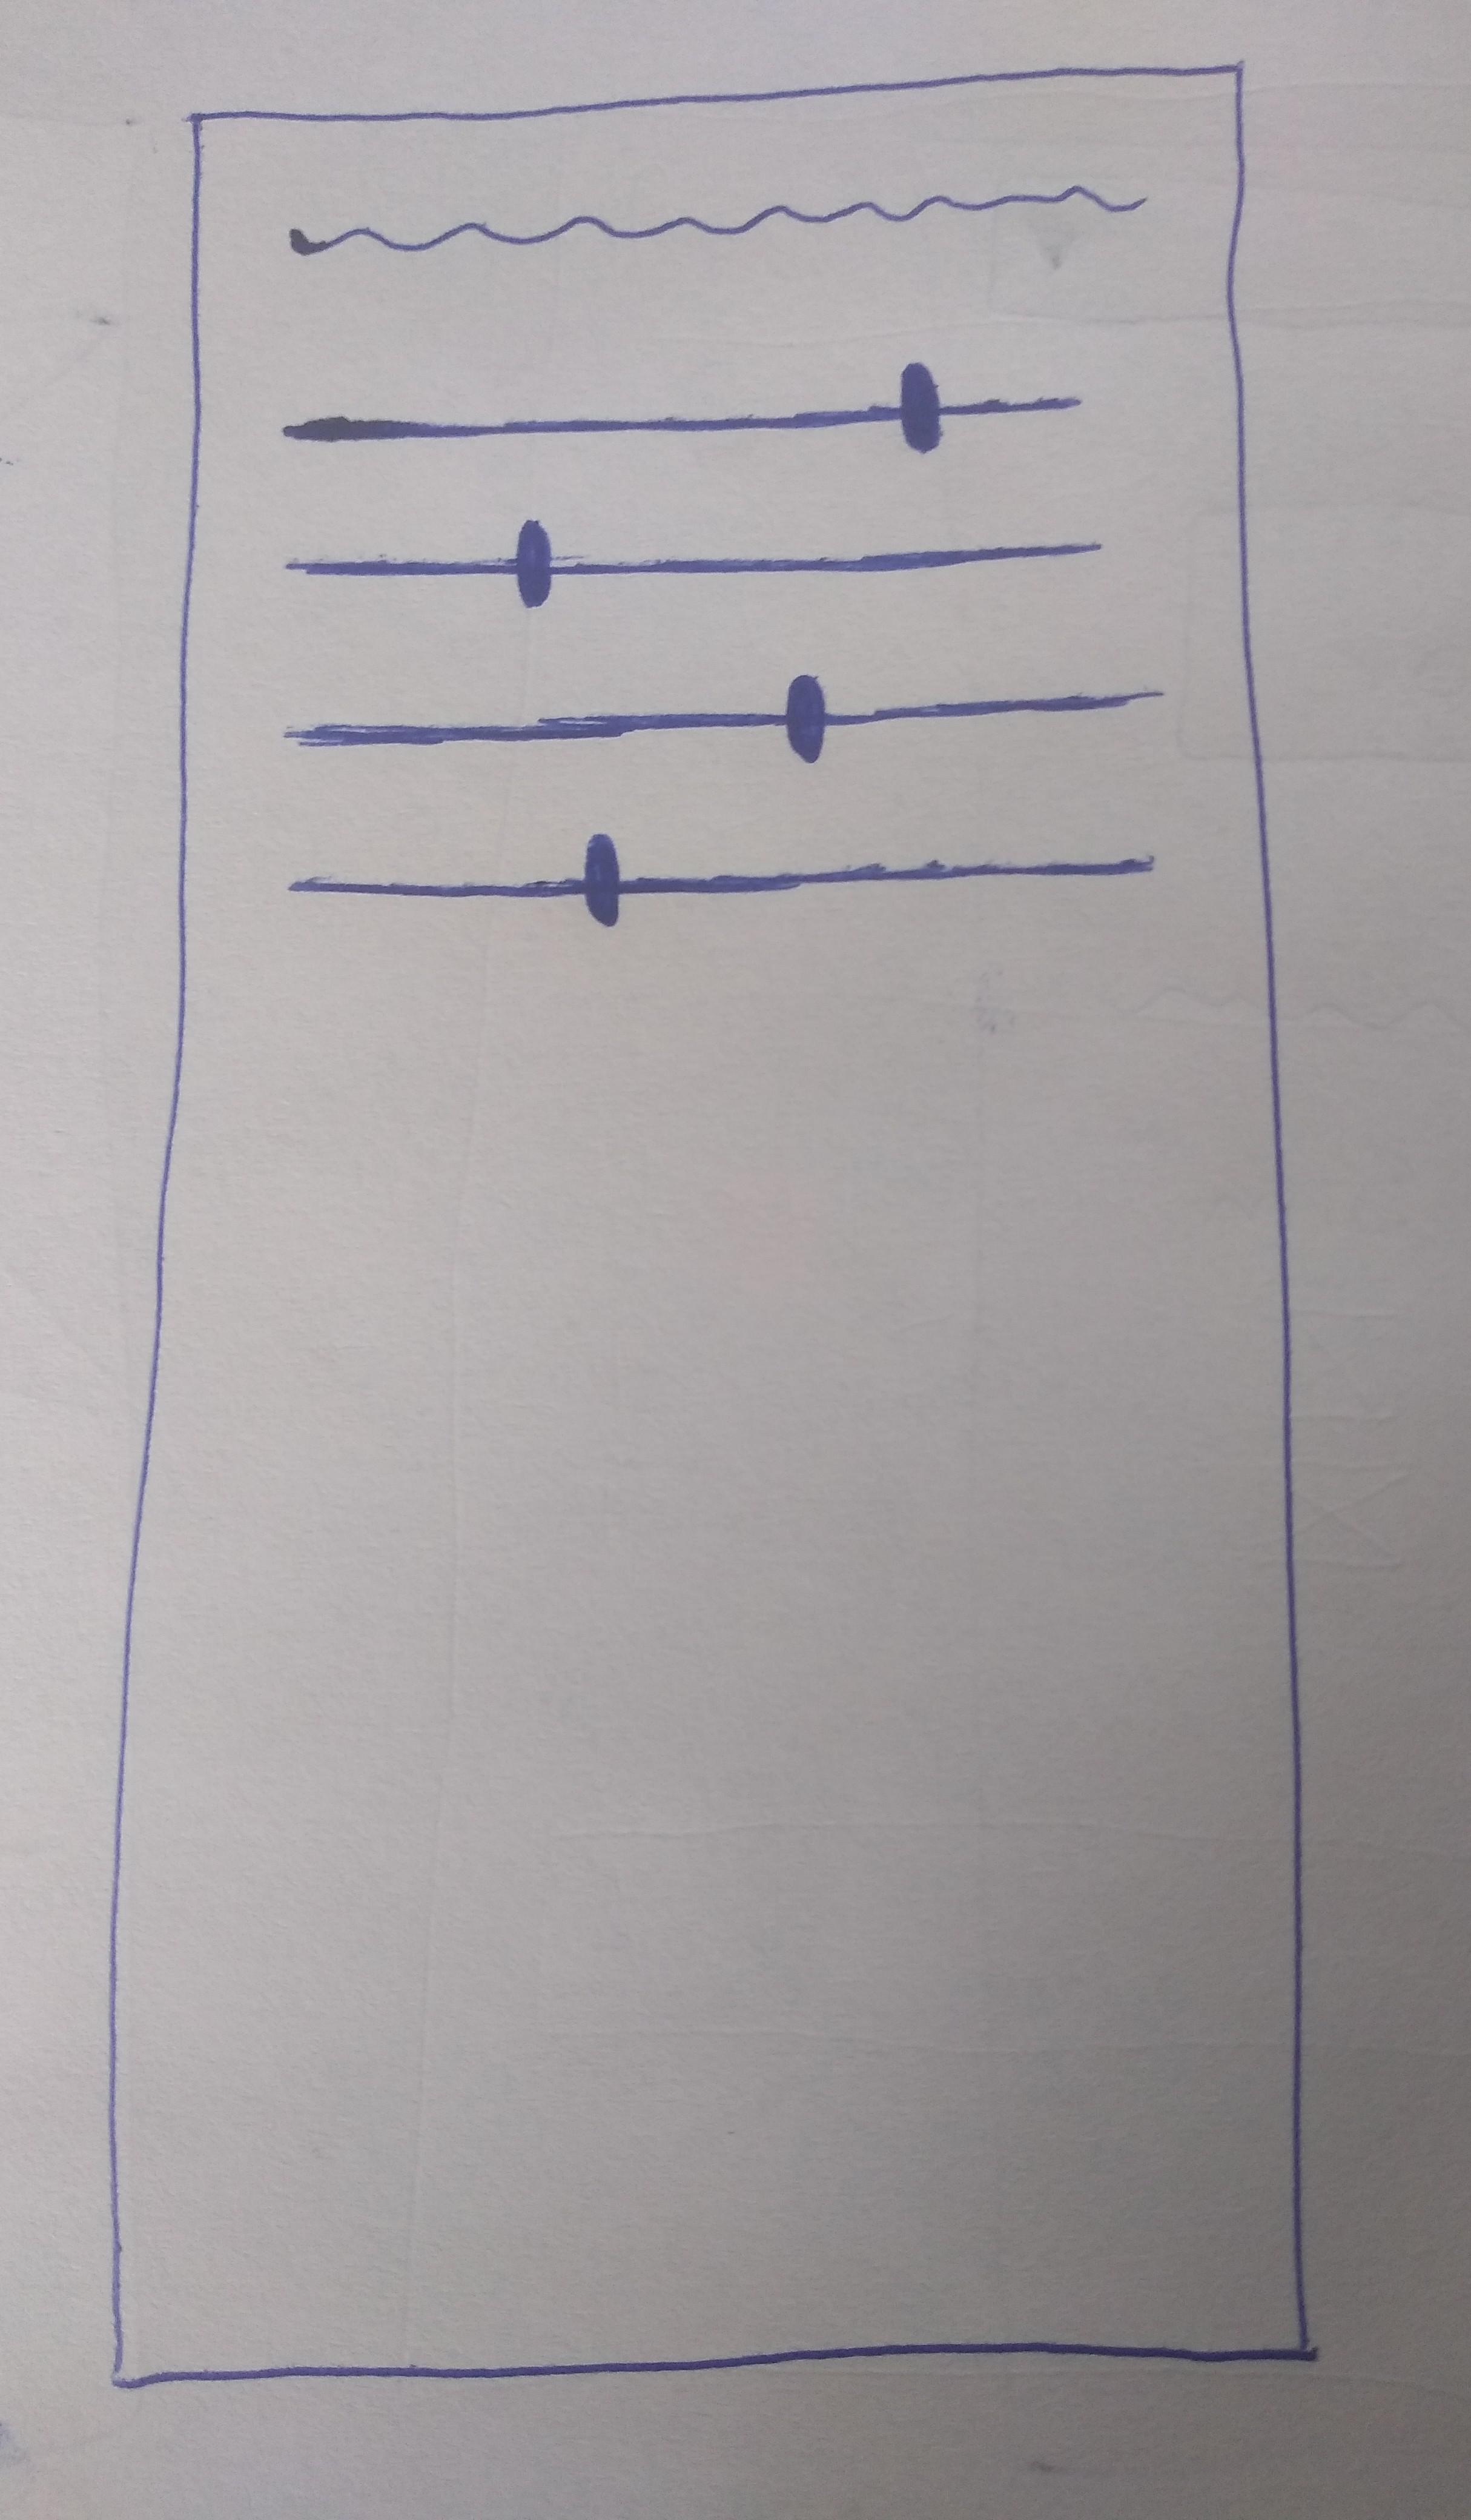Label: (291, 184, 1151, 257)
Screen: (107, 61, 1315, 2390)
Slider: (291, 830, 1158, 928), (285, 674, 1163, 765), (285, 359, 1079, 452), (287, 518, 1100, 606)
